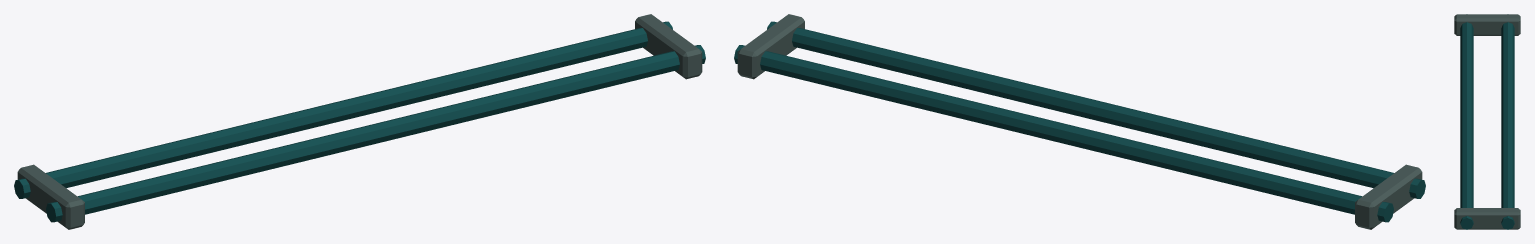
The model's file is SM_MP_Pipe_Run.fbx.
3 renders of one model, left to right at view 1: azimuth 30°, elevation 25°; view 2: azimuth 150°, elevation 25°; view 3: azimuth 270°, elevation 25°, orthographic. The views are drawn at different scales.
Parts seen in each view (by area): view 1: SM_MP_Pipe_Run; view 2: SM_MP_Pipe_Run; view 3: SM_MP_Pipe_Run.
Boxes of the visible parts, <box> form: SM_MP_Pipe_Run: <box>14,14,705,229</box>; SM_MP_Pipe_Run: <box>734,14,1425,229</box>; SM_MP_Pipe_Run: <box>1454,14,1520,229</box>.
Size of the model in its own units: 400 by 55 by 16.
1 material, 1 textured.
